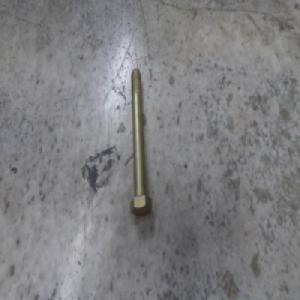Bolt: (128, 67, 152, 214)
